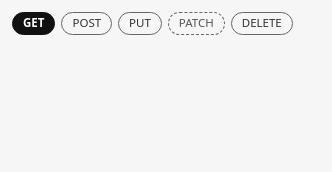
Test case: PillGroup, APG radio group › selects an option on click
This screenshot has width=332, height=172.
Click the radio button labelled "PUT".
click(140, 23)  # box [118,12,162,35]
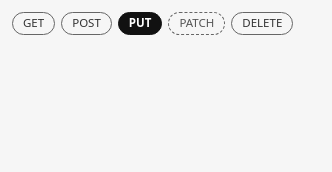
Now the radio button labelled "PUT" is checked, box [118,12,162,35]
